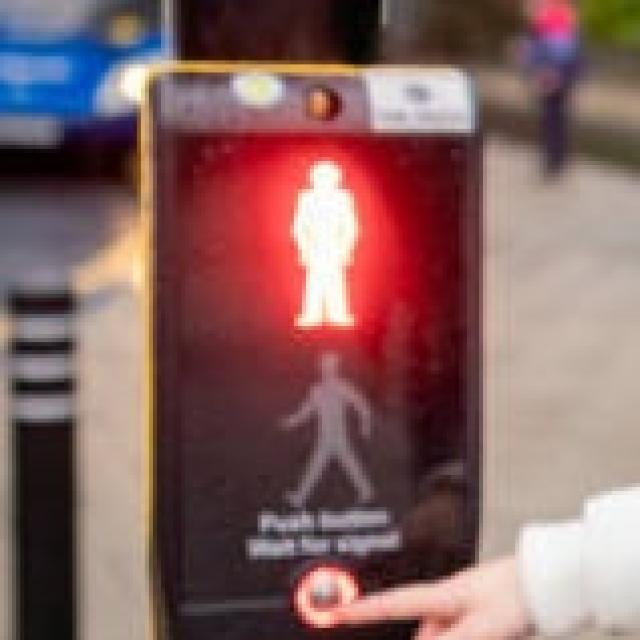red-crossing: (245, 128, 402, 334)
